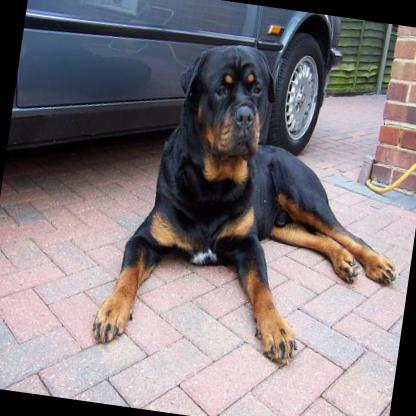Rottweiler: (89, 27, 416, 380)
